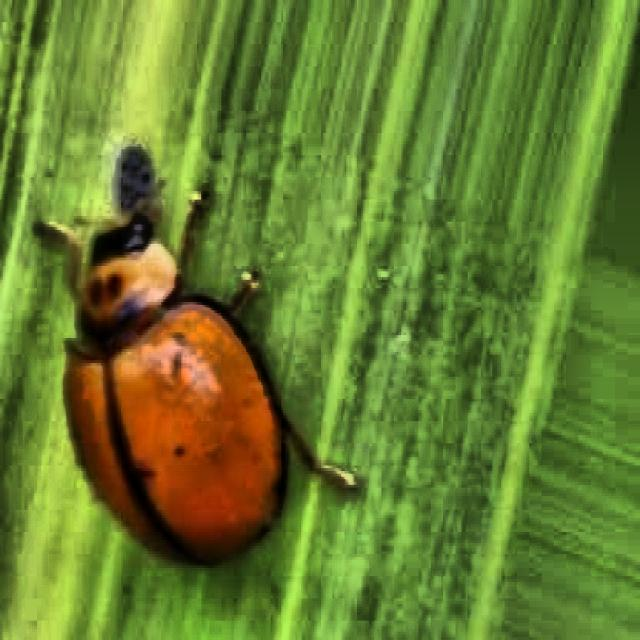Ladybug: (41, 166, 312, 574)
